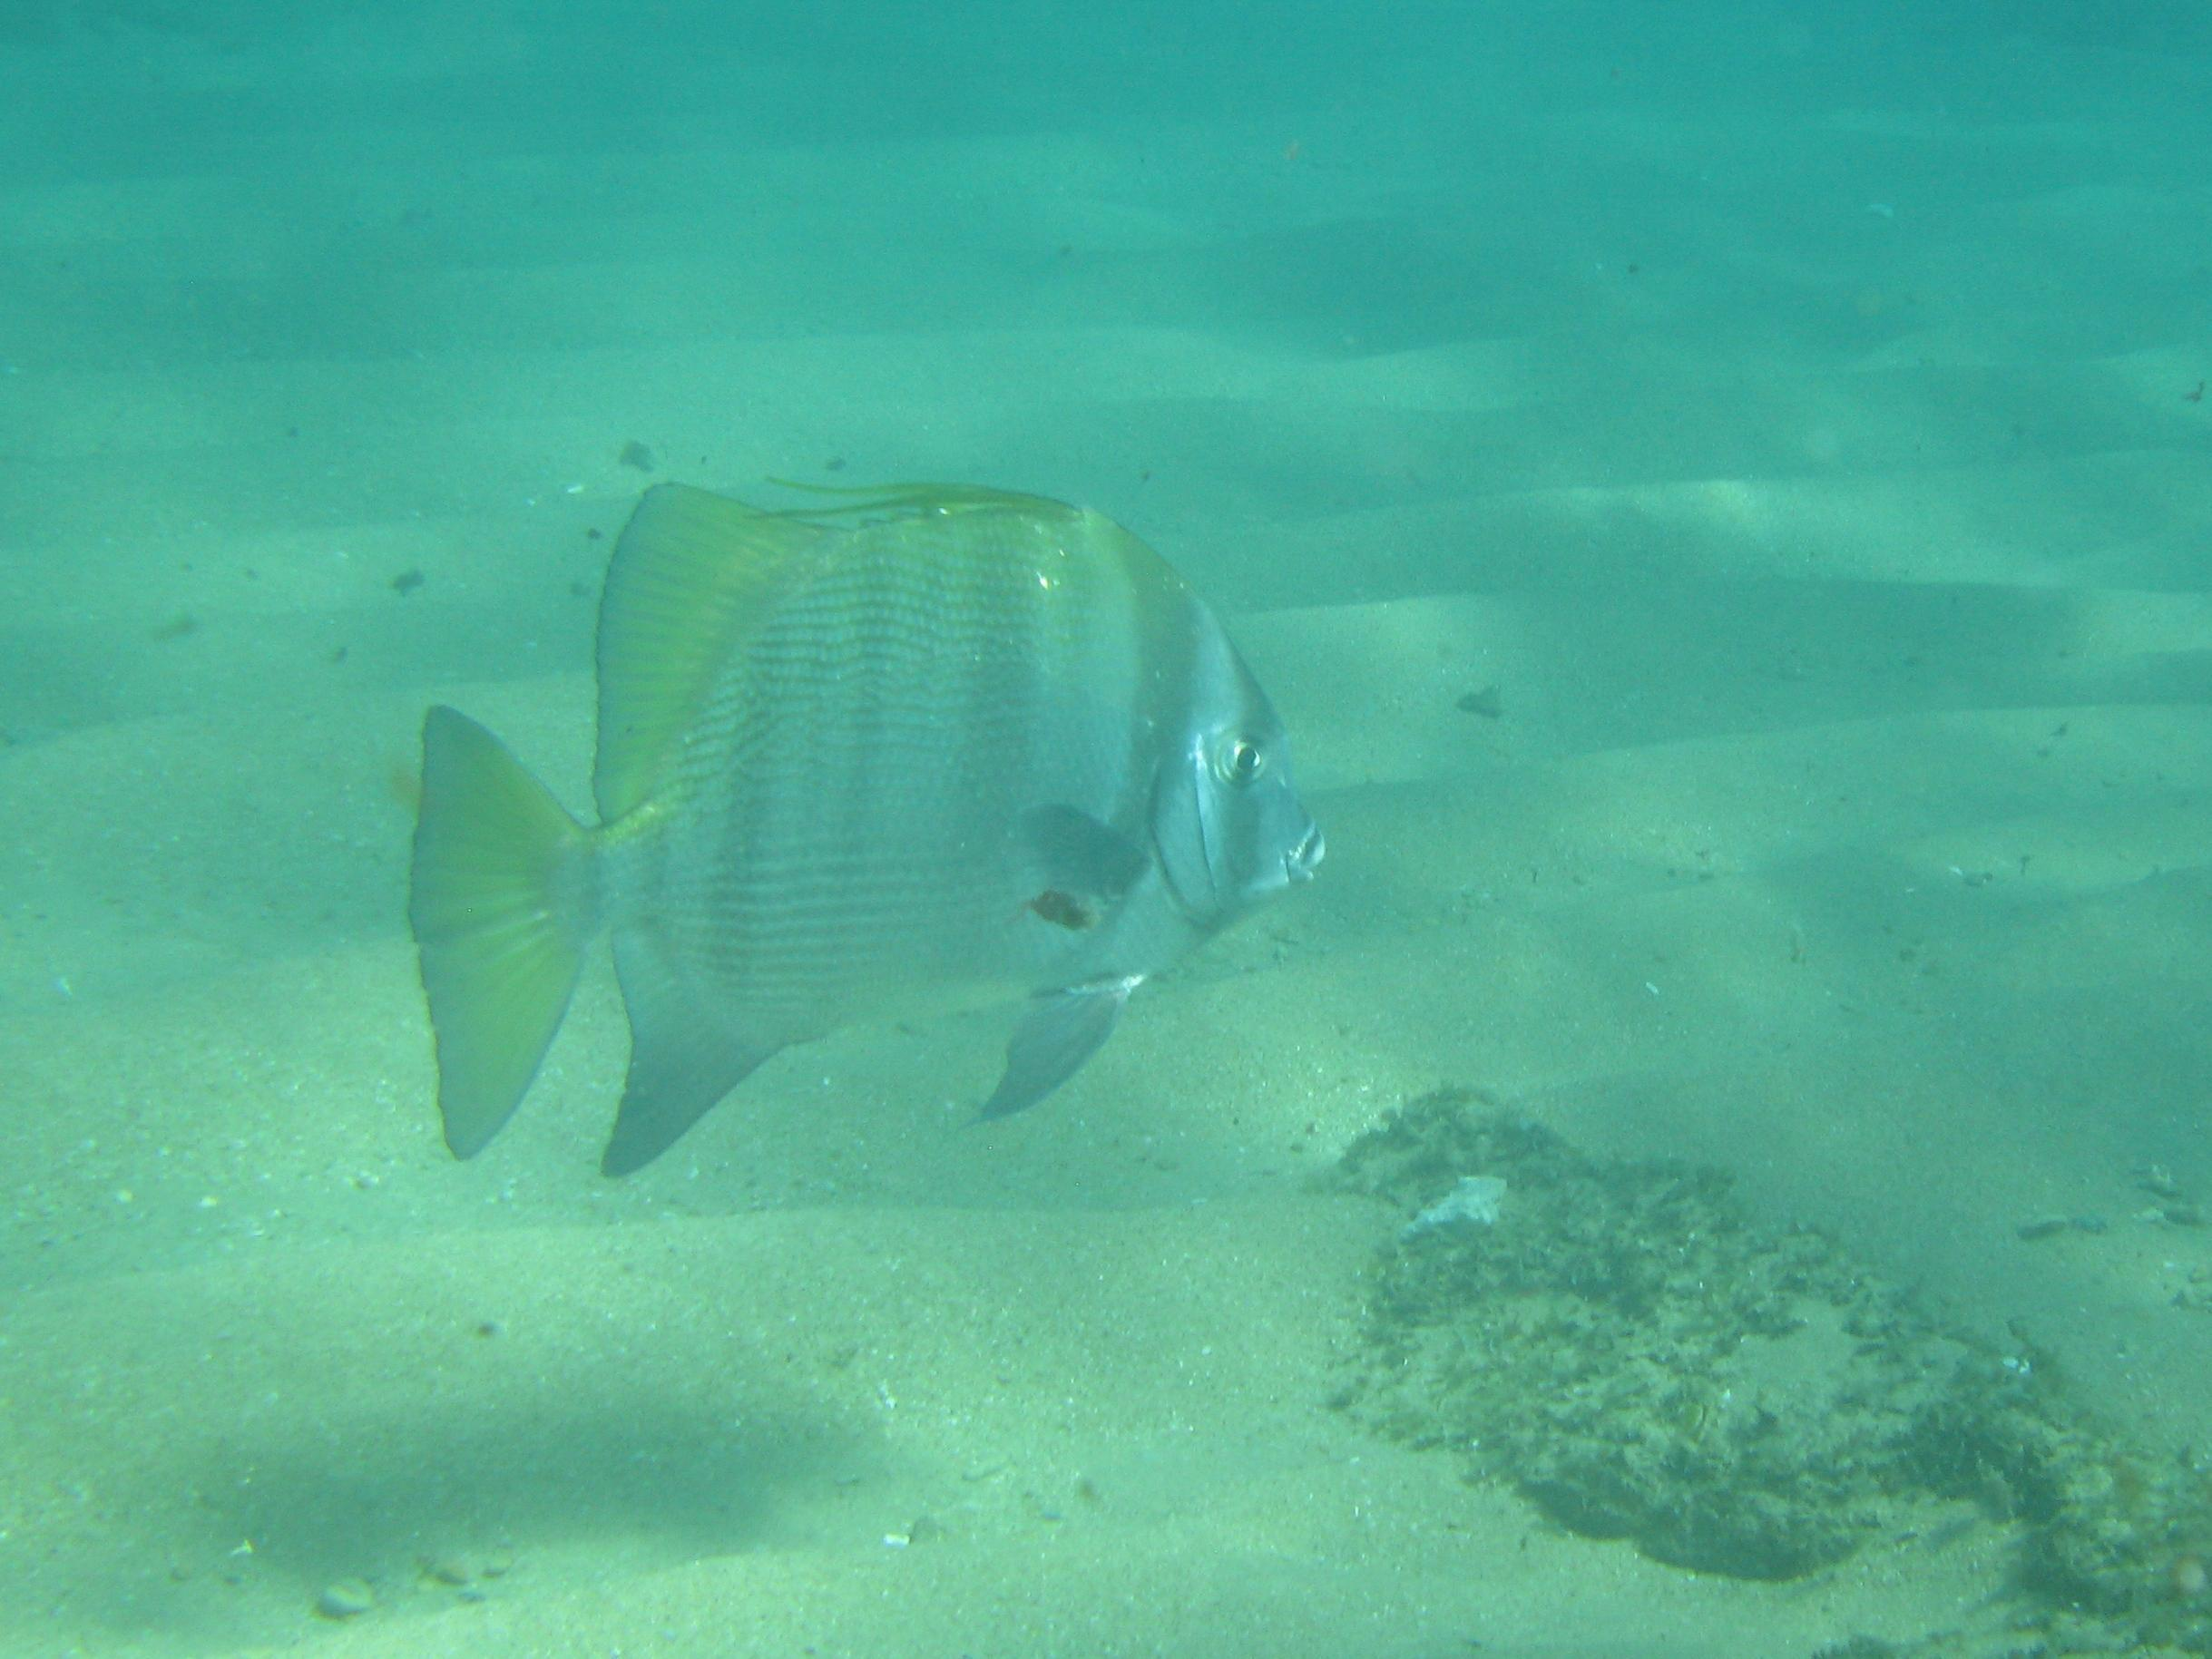Fish: (394, 464, 1327, 1185)
